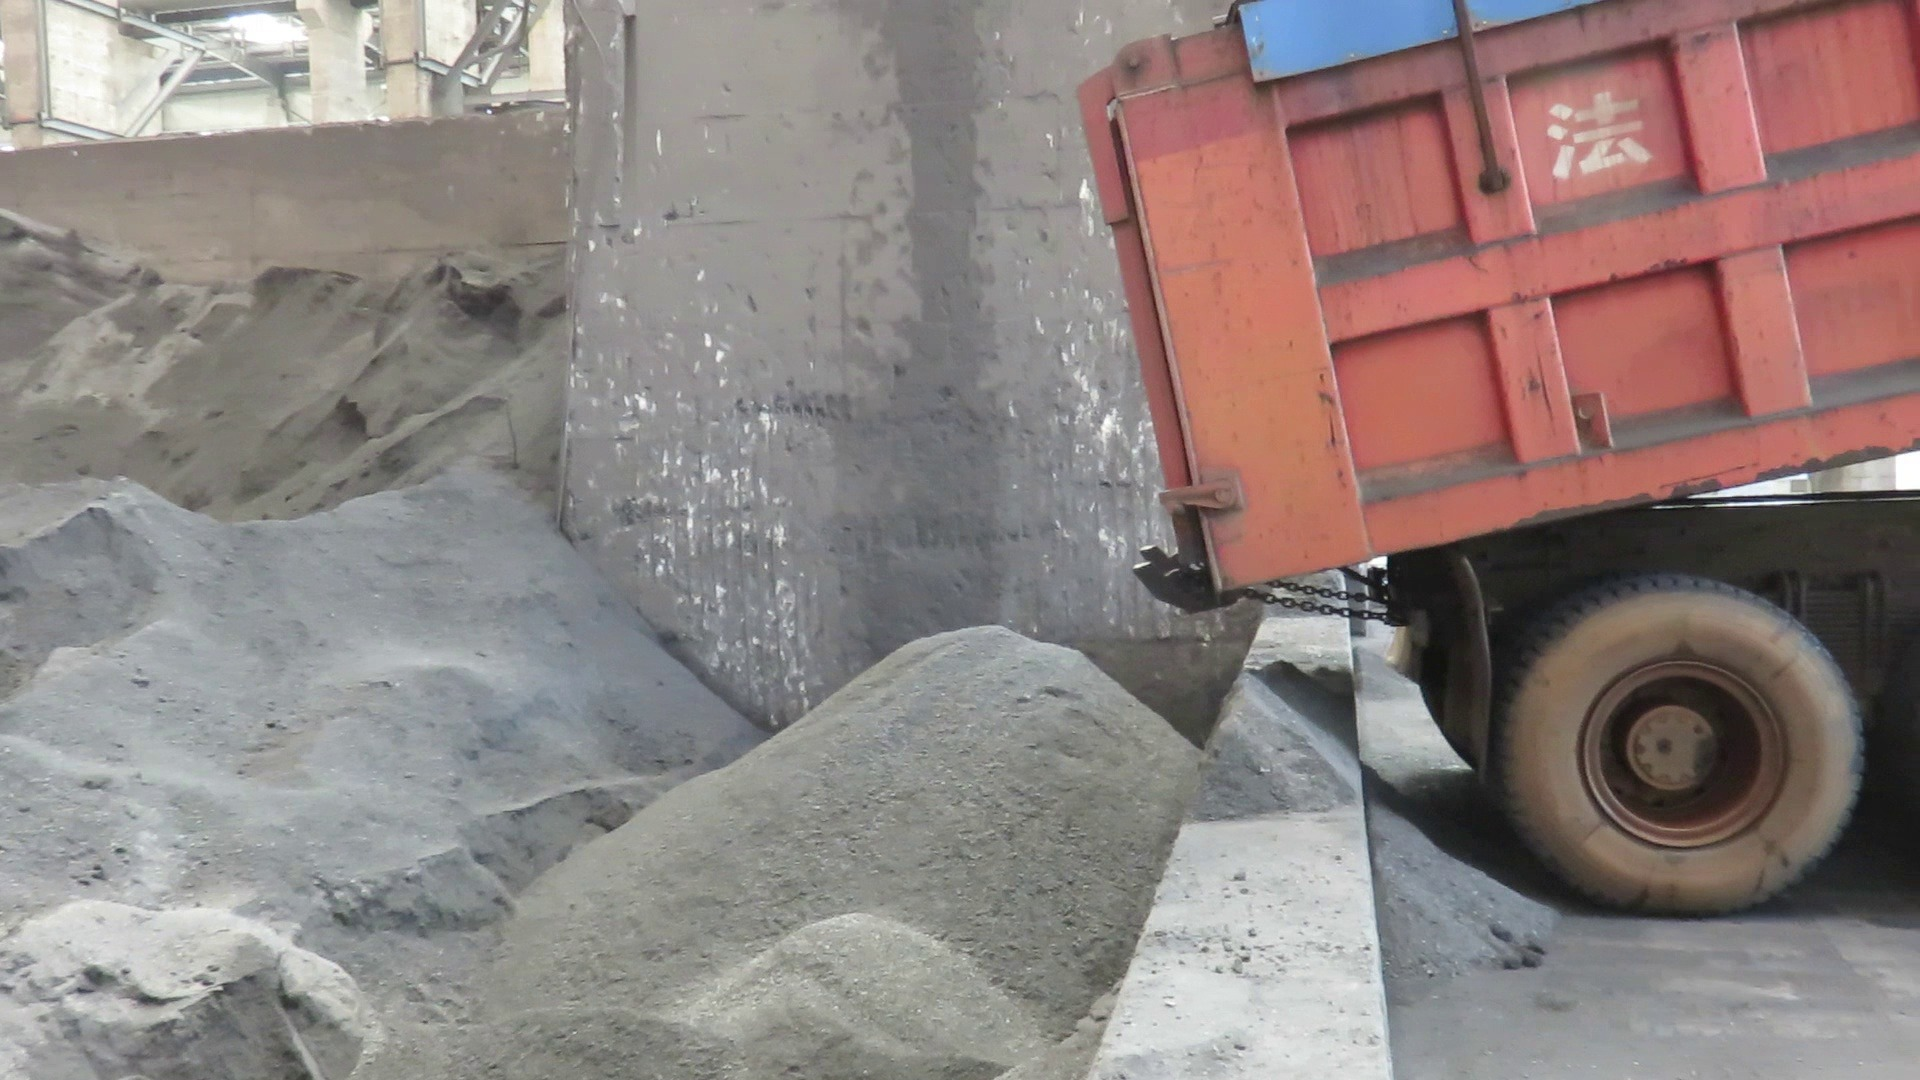truck: (1062, 0, 1920, 942)
